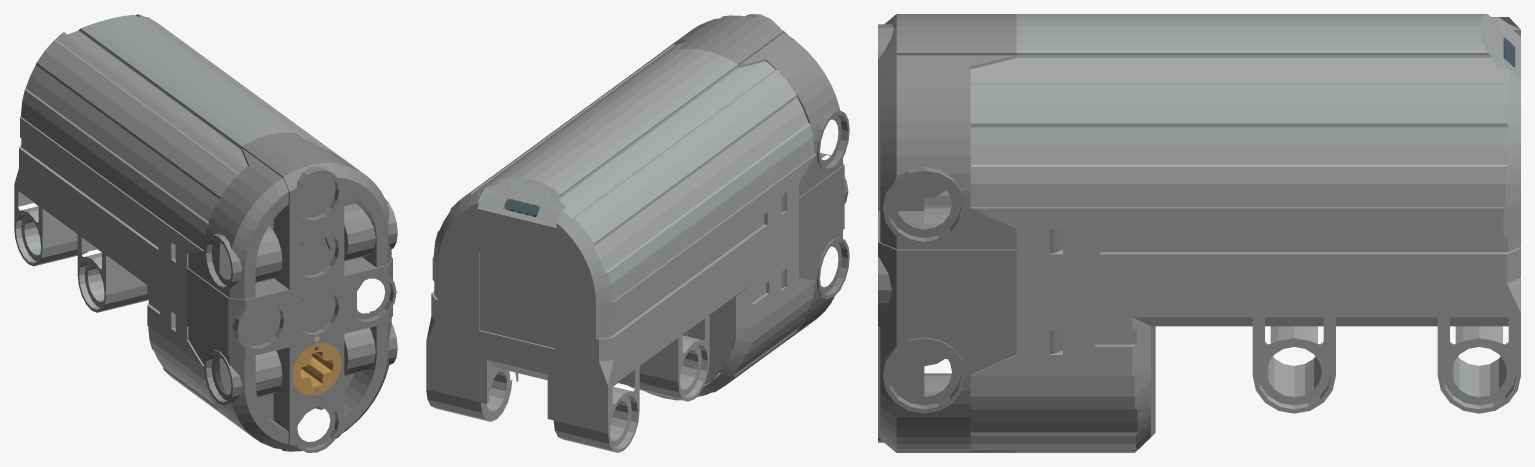
3 views of the same model, side by side, from view 1: azimuth 30°, elevation 25°; view 2: azimuth 150°, elevation 25°; view 3: azimuth 270°, elevation 25° (orthographic). The views are drawn at different scales.
Parts seen in each view (by area): view 1: world; view 2: world; view 3: world.
Boxes of the visible parts, <box> form: world: <box>14,14,397,452</box>; world: <box>426,14,849,452</box>; world: <box>878,14,1520,452</box>.
Bounding box in the file's own units: 0.024 × 0.0396 × 0.0556.
